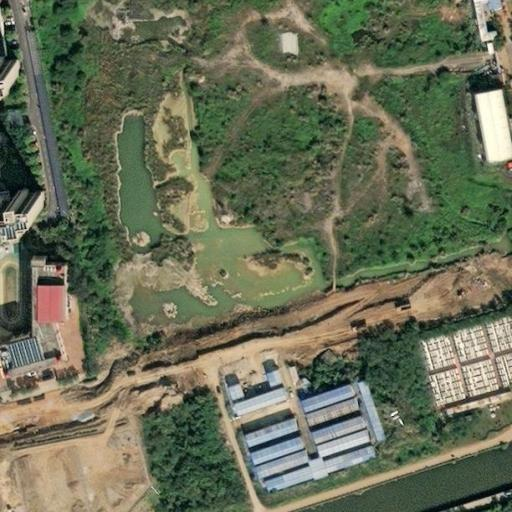building: (0, 264, 72, 380), (245, 437, 311, 498), (307, 418, 370, 477), (474, 91, 512, 167), (294, 386, 353, 429), (350, 380, 382, 445), (236, 419, 293, 450), (435, 392, 504, 416), (227, 389, 281, 418), (0, 192, 44, 226), (415, 369, 453, 407), (451, 359, 487, 396), (409, 338, 446, 370), (483, 349, 512, 388), (445, 330, 478, 360), (479, 321, 512, 349), (471, 0, 488, 45), (272, 26, 290, 65), (385, 409, 404, 431), (286, 364, 304, 387), (222, 385, 239, 405), (0, 5, 6, 54), (306, 460, 320, 480), (263, 372, 276, 387)
